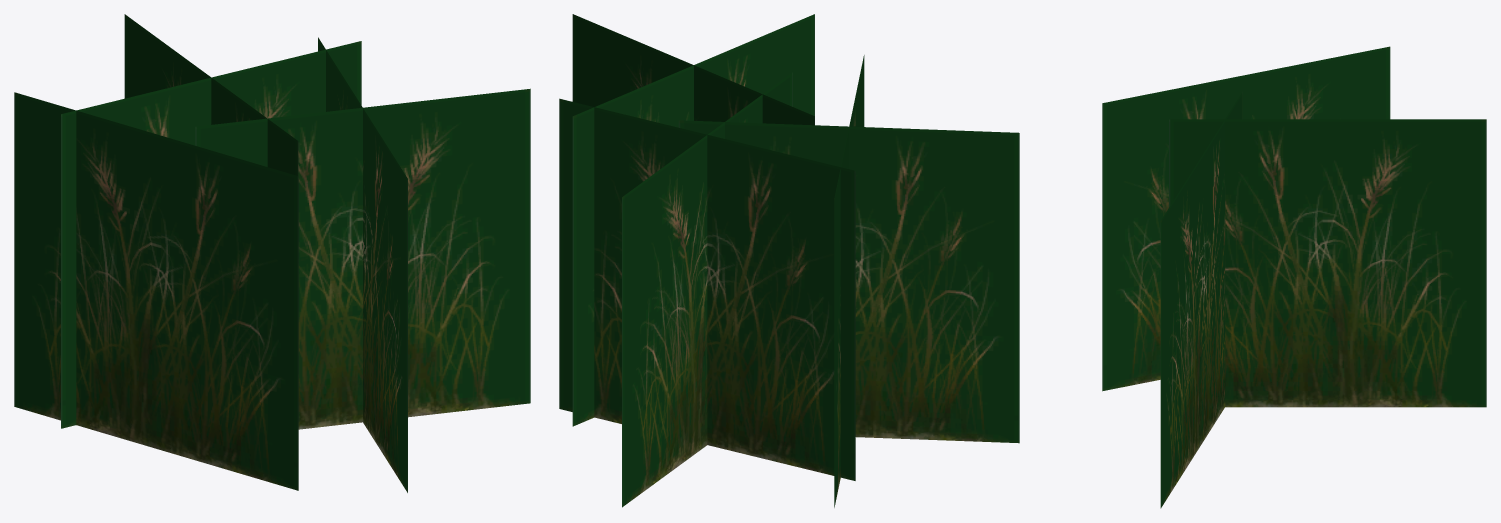
Rendered from INST_EKH_GRASSCLUMP_PLANT.fbx.
3 renders of one model, left to right at view 1: azimuth 30°, elevation 25°; view 2: azimuth 150°, elevation 25°; view 3: azimuth 270°, elevation 25°, orthographic. The views are drawn at different scales.
Visible parts, largest first — view 1: INST_EKH_GRASSCLUMP_PLANT; view 2: INST_EKH_GRASSCLUMP_PLANT; view 3: INST_EKH_GRASSCLUMP_PLANT.
Part boxes in pixels (x1=…): INST_EKH_GRASSCLUMP_PLANT: x1=14, y1=14, x2=530, y2=492; INST_EKH_GRASSCLUMP_PLANT: x1=559, y1=14, x2=1019, y2=507; INST_EKH_GRASSCLUMP_PLANT: x1=1102, y1=46, x2=1486, y2=508.
Size of the model in its own units: 10073 by 6536 by 9017.
1 material, 1 textured.
